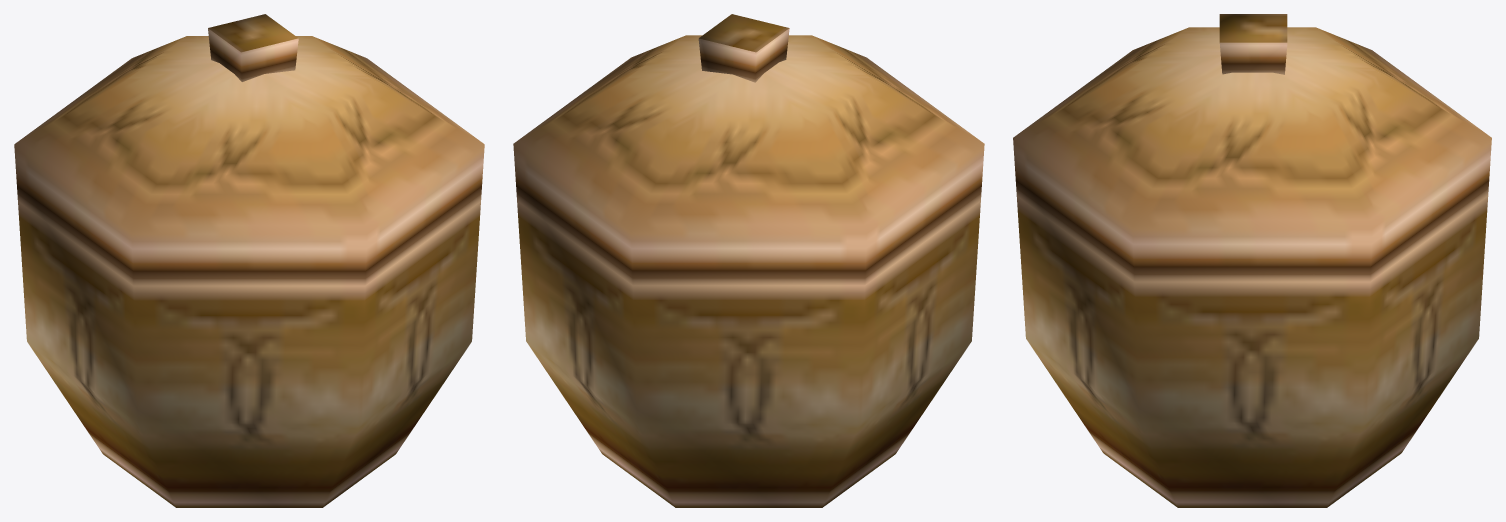
The model's file is jar03.obj.
The picture shows the model from 3 angles, left to right: view 1: azimuth 30°, elevation 25°; view 2: azimuth 150°, elevation 25°; view 3: azimuth 270°, elevation 25°; orthographic projection.
Visible parts, largest first — view 1: jar03; view 2: jar03; view 3: jar03.
Part boxes in pixels (x1,y1,x2,y2): jar03: (14, 14, 484, 507); jar03: (513, 14, 984, 507); jar03: (1013, 14, 1491, 507).
Size of the model in its own units: 0.465 by 0.5285 by 0.5369.
1 material, 1 textured.
